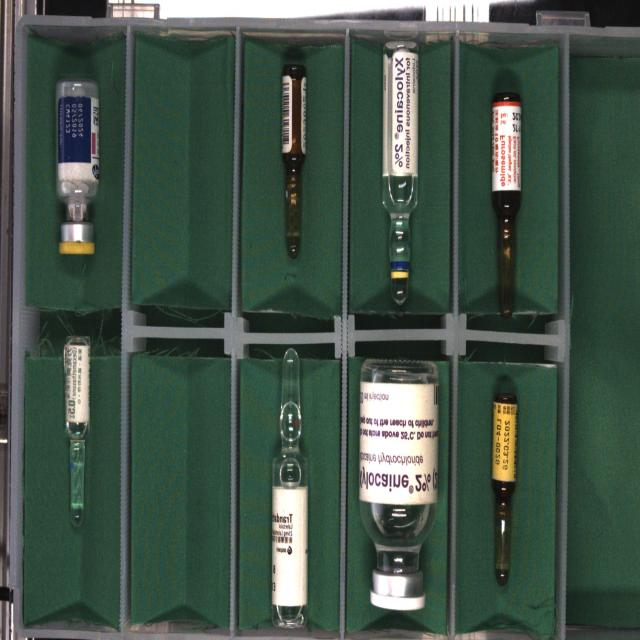Vials: (359, 359, 439, 611), (55, 79, 100, 255)
